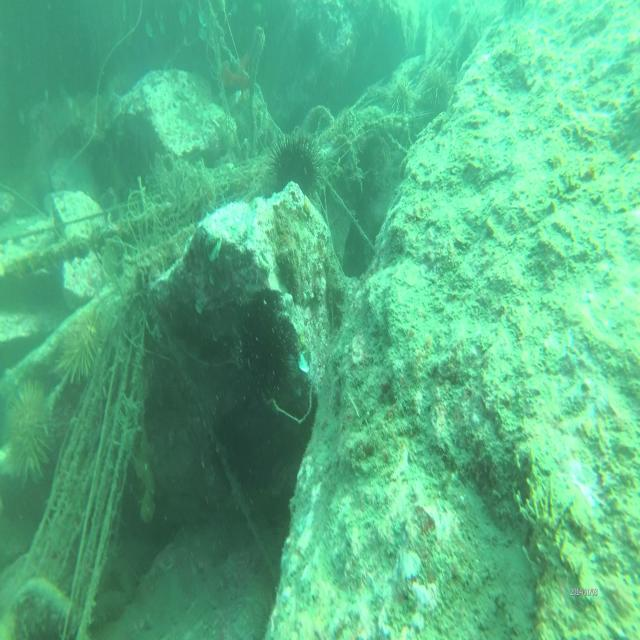echinus: (6, 383, 55, 484), (273, 134, 321, 203), (59, 317, 102, 386)
